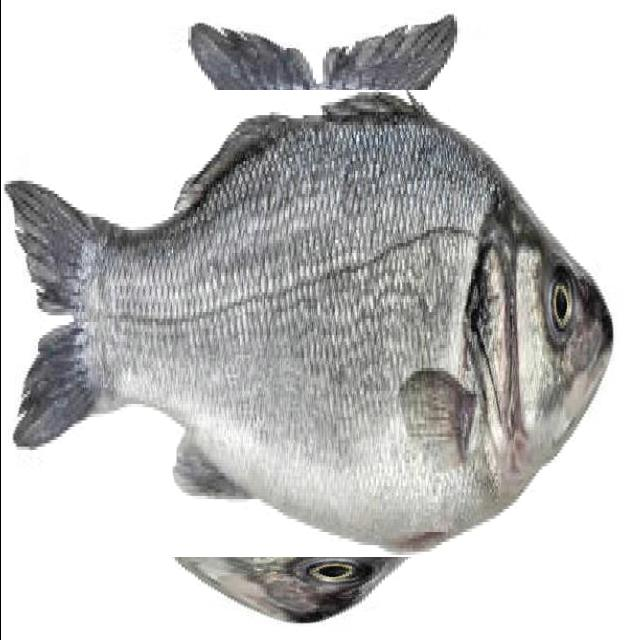Healthy Fish: (41, 51, 586, 596)
